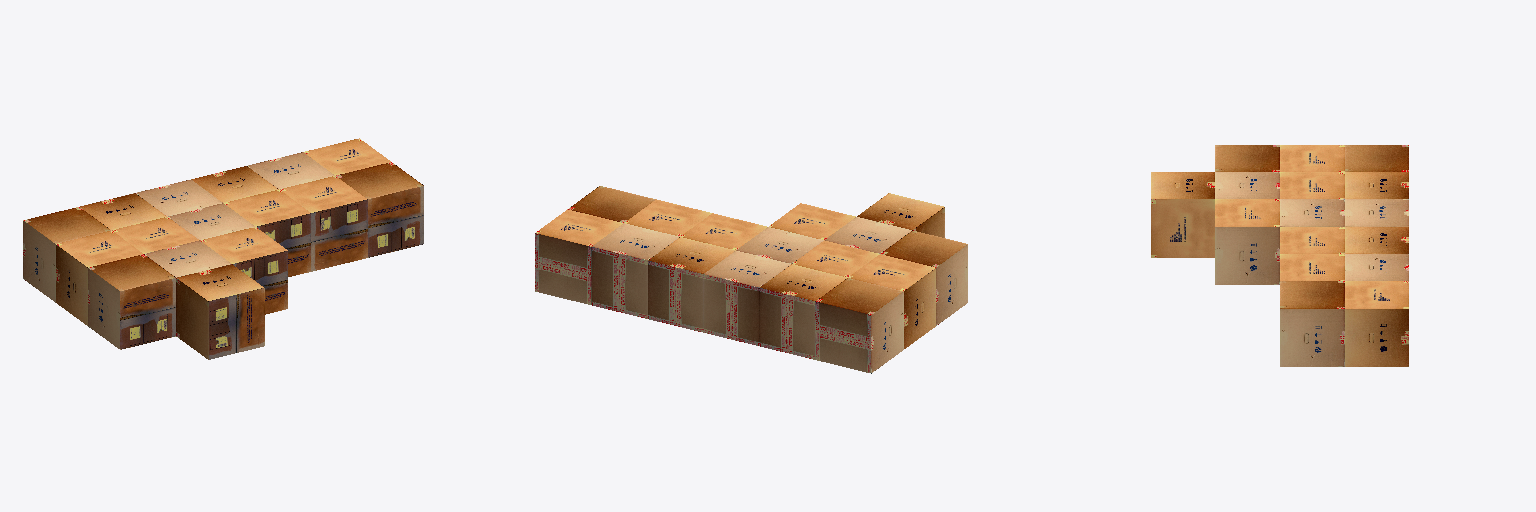
3 renders of one model, left to right at view 1: azimuth 30°, elevation 25°; view 2: azimuth 150°, elevation 25°; view 3: azimuth 270°, elevation 25°, orthographic.
Visible parts, largest first — view 1: boxes2; view 2: boxes2; view 3: boxes2.
Boxes of the visible parts, x1=… form: boxes2: x1=23, y1=138, x2=423, y2=359; boxes2: x1=535, y1=186, x2=967, y2=373; boxes2: x1=1151, y1=145, x2=1408, y2=366.
Bounding box in the file's own units: 3.6 × 0.6 × 2.4.
Materials: 1 (1 with a texture image).